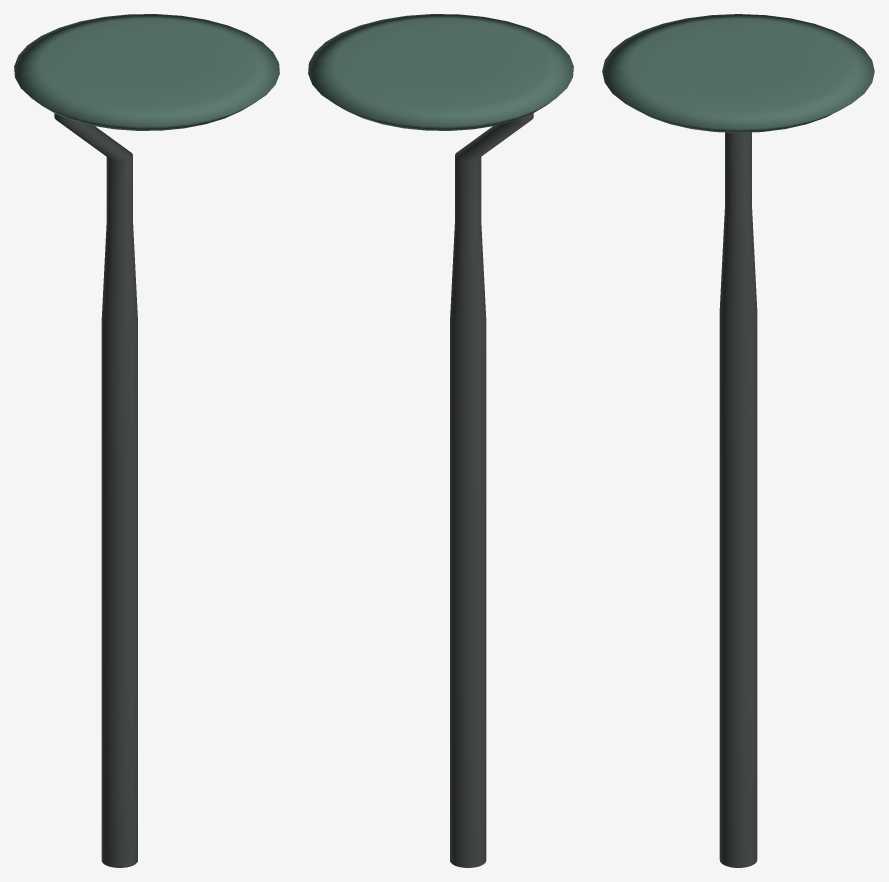
The model's file is LampPole1.fbx.
3 views of the same model, side by side, from view 1: azimuth 30°, elevation 25°; view 2: azimuth 150°, elevation 25°; view 3: azimuth 270°, elevation 25° (orthographic). The views are drawn at different scales.
Parts seen in each view (by area): view 1: LampPole1, LampPiece; view 2: LampPole1, LampPiece; view 3: LampPole1, LampPiece.
Part boxes in pixels (x1,y1,x2,y2): LampPole1: [54, 113, 137, 867]; LampPiece: [14, 14, 279, 130]; LampPole1: [450, 113, 533, 867]; LampPiece: [308, 14, 573, 130]; LampPole1: [719, 132, 757, 867]; LampPiece: [602, 14, 874, 132].
Size of the model in its own units: 200 by 654 by 200.
